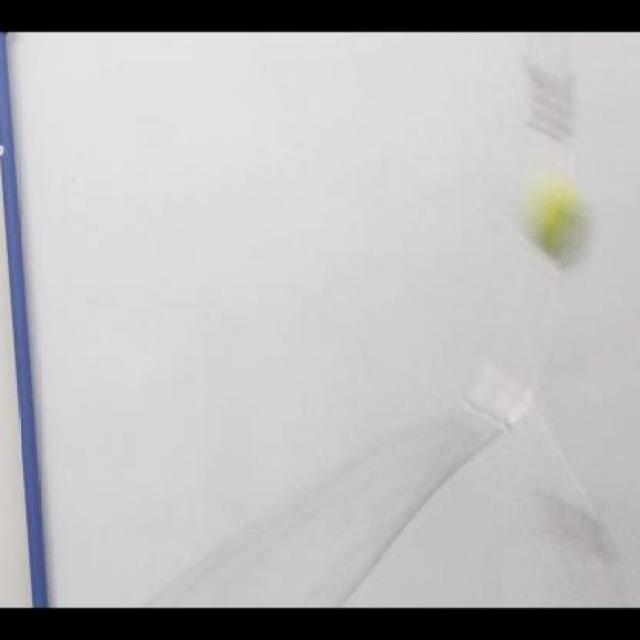baseball: (527, 177, 590, 269)
